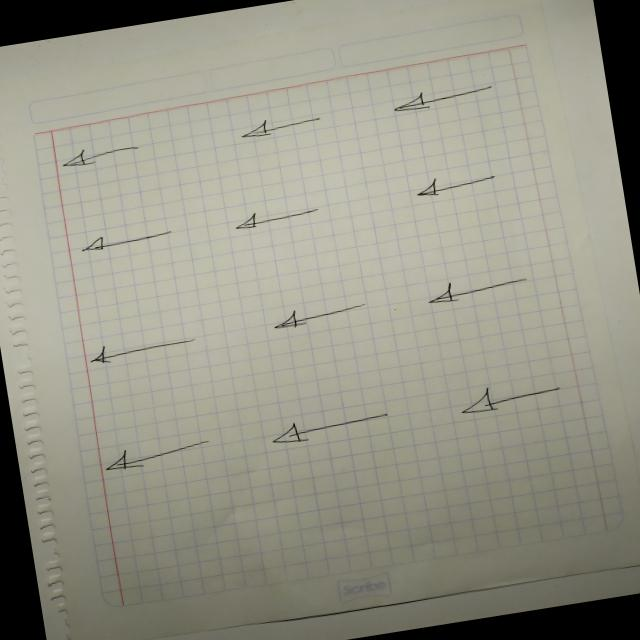arrow_line_left: (258, 402, 408, 453), (77, 323, 209, 372), (452, 371, 578, 422), (92, 432, 228, 479), (416, 265, 547, 313), (384, 74, 514, 120), (259, 293, 382, 336), (402, 161, 516, 206), (72, 220, 193, 262), (224, 195, 340, 237), (228, 104, 336, 148), (53, 134, 165, 176)
